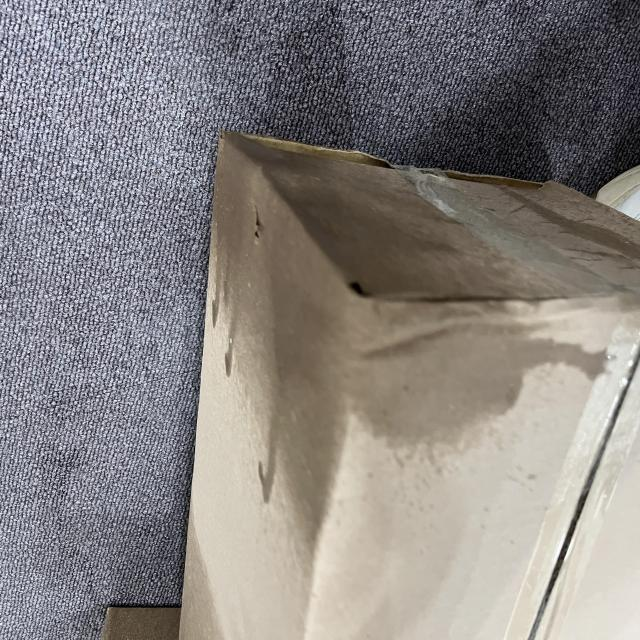wet: (71, 279, 380, 640)
